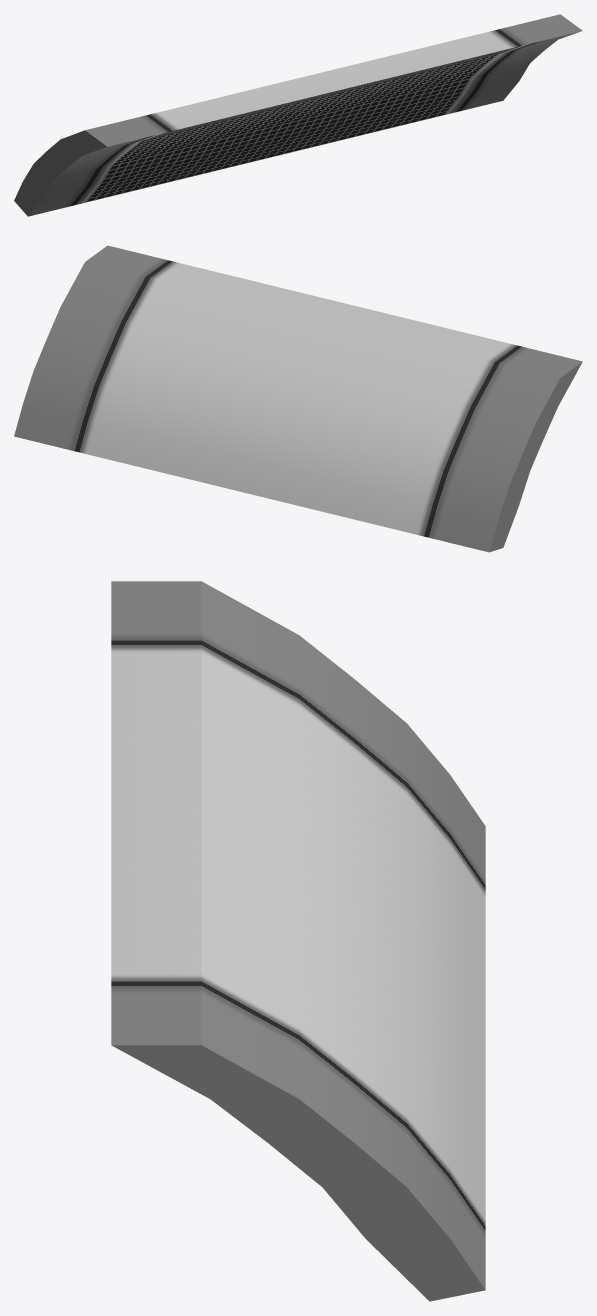
Rendered from Ceiling Transition.fbx.
3 renders of one model, top to bottom at view 1: azimuth 30°, elevation 25°; view 2: azimuth 150°, elevation 25°; view 3: azimuth 270°, elevation 25°, orthographic. The views are drawn at different scales.
Visible parts, largest first — view 1: Door_Door_Door_Door_Door_Door_Door_Door_Door_Door_Door_Door_; view 2: Door_Door_Door_Door_Door_Door_Door_Door_Door_Door_Door_Door_; view 3: Door_Door_Door_Door_Door_Door_Door_Door_Door_Door_Door_Door_.
Part boxes in pixels (x1=…): Door_Door_Door_Door_Door_Door_Door_Door_Door_Door_Door_Door_: x1=14, y1=14, x2=582, y2=216; Door_Door_Door_Door_Door_Door_Door_Door_Door_Door_Door_Door_: x1=14, y1=245, x2=582, y2=552; Door_Door_Door_Door_Door_Door_Door_Door_Door_Door_Door_Door_: x1=111, y1=581, x2=485, y2=1301.
Size of the model in its own units: 400 by 103 by 136.
Materials: 1 (1 with a texture image).
